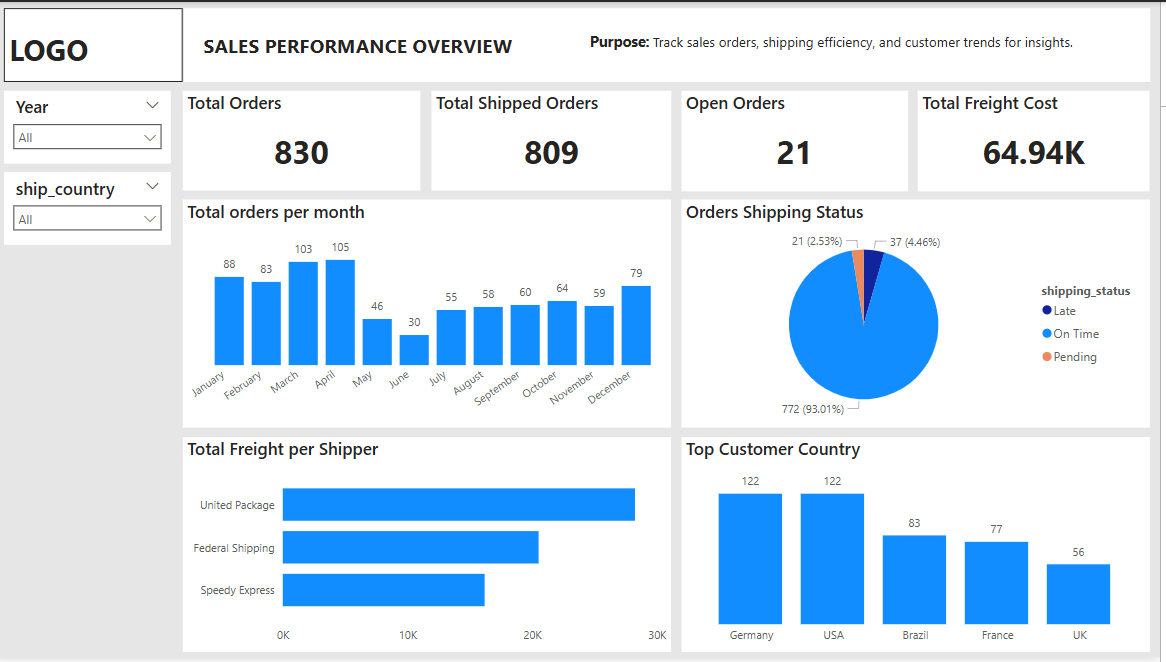

The page's visual inventory and layout, read from the dashboard file:
{"tool":"powerbi","page":{"name":"Page 1","canvas":[1280,720],"ordinal":0},"visuals":[{"type":"shape","box":[208.6,6.9,1060.7,81],"z":0},{"type":"textbox","box":[11,6.9,196.2,81],"z":1000},{"type":"textbox","box":[225,27.4,371.9,43.9],"z":2000},{"type":"textbox","box":[649.1,27.4,614.8,43.9],"z":3000},{"type":"card","title":"Total Orders","fields":{"Values":["CountNonNull(sales vw_fact_orders.order_id)"]},"box":[207.2,97.4,260.7,109.8],"z":4000},{"type":"card","title":"Total Shipped Orders","fields":{"Values":["sales vw_fact_orders.Shipped Orders"]},"box":[480.3,97.4,263.5,109.8],"z":5000},{"type":"card","title":"Open Orders","fields":{"Values":["sales vw_fact_orders.Open Orders"]},"box":[754.3,97.1,248.6,110],"z":6000},{"type":"card","title":"Total Freight Cost","fields":{"Values":["Sum(sales vw_fact_orders.freight_cost)"]},"box":[1014.3,97.1,254.3,110],"z":7000},{"type":"clusteredColumnChart","title":"Total orders per month","fields":{"Category":["sales vw_fact_orders.order_date.Variation.Date Hierarchy.Month"],"Y":["CountNonNull(sales vw_fact_orders.order_id)"]},"box":[207.1,217.1,535.7,250],"z":8000},{"type":"pieChart","title":"Orders Shipping Status","fields":{"Y":["CountNonNull(sales vw_fact_orders.shipping_status)"],"Series":["sales vw_fact_orders.shipping_status"]},"box":[754.3,217.1,514.3,250],"z":9000},{"type":"clusteredBarChart","title":"Total Freight per Shipper","fields":{"Category":["sales vw_fact_orders.shipper_name"],"Y":["Sum(sales vw_fact_orders.freight_cost)"]},"box":[207.1,477.1,535.7,235.7],"z":10000},{"type":"clusteredColumnChart","title":"Top Customer Country","fields":{"Category":["sales vw_fact_orders.customer_country"],"Y":["CountNonNull(sales vw_fact_orders.customer_id)"]},"box":[754.3,477.1,514.3,235.7],"z":11000},{"type":"slicer","fields":{"Values":["sales vw_fact_orders.order_date.Variation.Date Hierarchy.Year"]},"box":[11.4,97.1,182.9,80],"z":12000},{"type":"slicer","fields":{"Values":["sales vw_fact_orders.ship_country"]},"box":[11.4,187.1,182.9,80],"z":13000}]}

Visuals, with their boxes in screenshot pixels (x1, y1, x2, y2), scaled from the page's 1280x720 canvas onto the 1166x662 screenshot:
shape: l=190, t=6, r=1156, b=81
textbox: l=10, t=6, r=189, b=81
textbox: l=205, t=25, r=544, b=66
textbox: l=591, t=25, r=1151, b=66
"Total Orders" card: l=189, t=90, r=426, b=191
"Total Shipped Orders" card: l=438, t=90, r=678, b=191
"Open Orders" card: l=687, t=89, r=914, b=190
"Total Freight Cost" card: l=924, t=89, r=1156, b=190
"Total orders per month" clusteredColumnChart: l=189, t=200, r=677, b=429
"Orders Shipping Status" pieChart: l=687, t=200, r=1156, b=429
"Total Freight per Shipper" clusteredBarChart: l=189, t=439, r=677, b=655
"Top Customer Country" clusteredColumnChart: l=687, t=439, r=1156, b=655
slicer - sales vw_fact_orders.order_date.Variation.Date Hierarchy.Year: l=10, t=89, r=177, b=163
slicer - sales vw_fact_orders.ship_country: l=10, t=172, r=177, b=246
